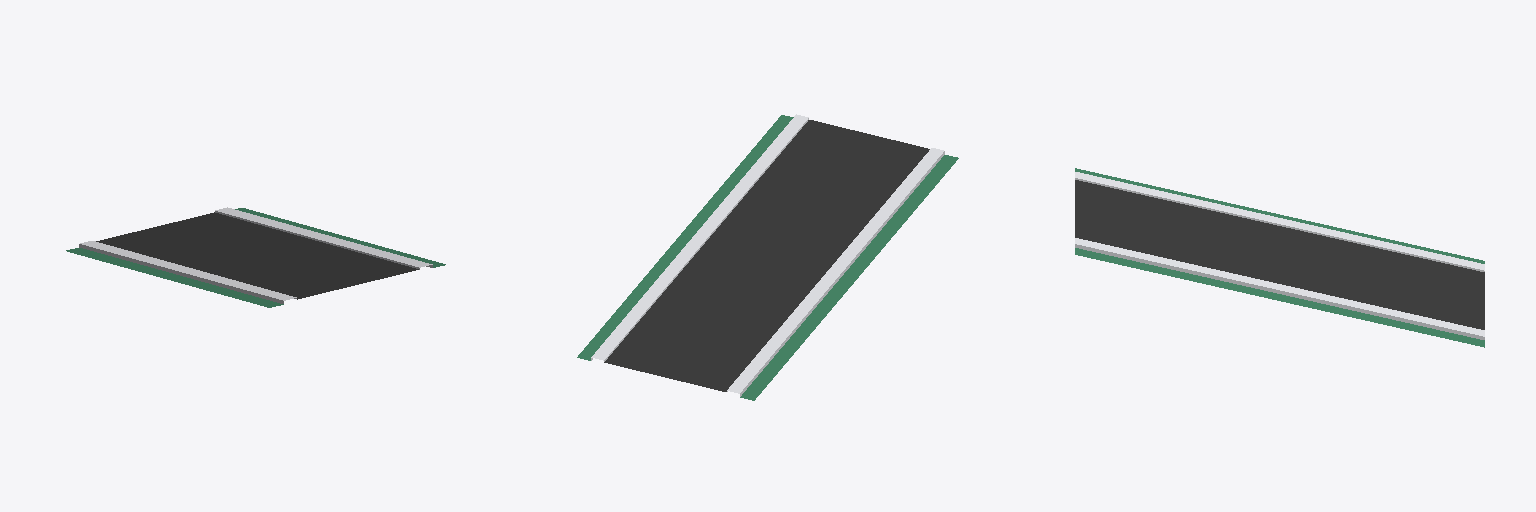
Rendered from roadRampLong.obj.
The picture shows the model from 3 angles: view 1: azimuth 30°, elevation 25°; view 2: azimuth 150°, elevation 25°; view 3: azimuth 270°, elevation 25°; orthographic projection.
Visible parts, largest first — view 1: roadRampLong; view 2: roadRampLong; view 3: roadRampLong.
Boxes of the visible parts, box(x1,y1,x2,y2) form: roadRampLong: box(66, 207, 445, 307); roadRampLong: box(577, 114, 958, 400); roadRampLong: box(1075, 168, 1484, 347).
Bounding box in the file's own units: 1 × 0.52 × 2.